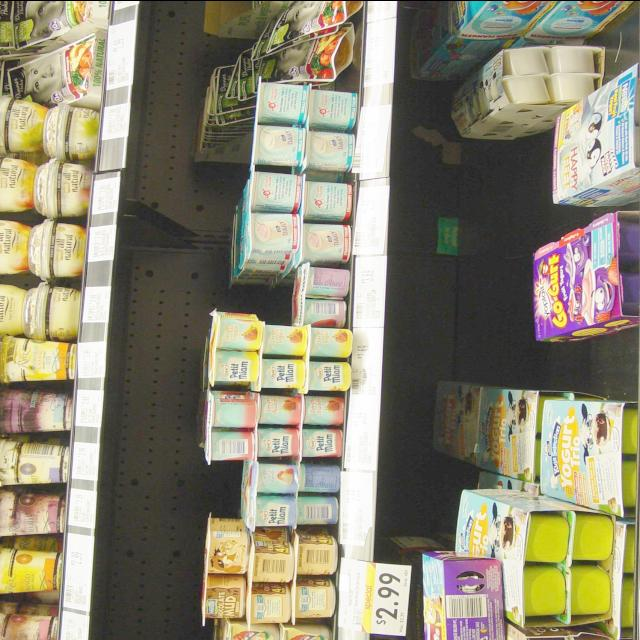empty_space: (118, 275, 202, 633), (414, 148, 504, 368), (123, 176, 233, 272), (516, 342, 632, 386)
